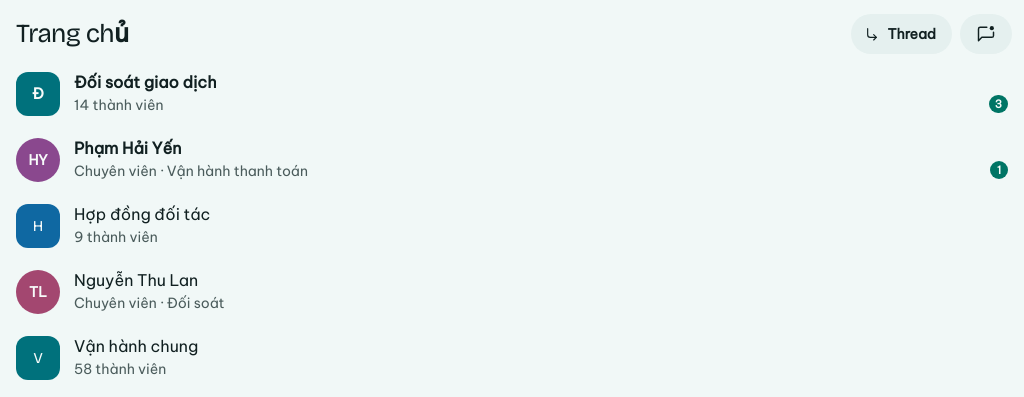
Scenario: the unread-only pill › still works when the device refuses to remember
Check: the number of list items is 5, box [0,60,1023,126]; [0,126,1023,192]; [16,204,210,248]; [16,270,224,314]; [16,336,198,380]
Click the button named "Chỉ hiện chưa đọc". click: click(986, 34)
box: [960,14,1012,54]
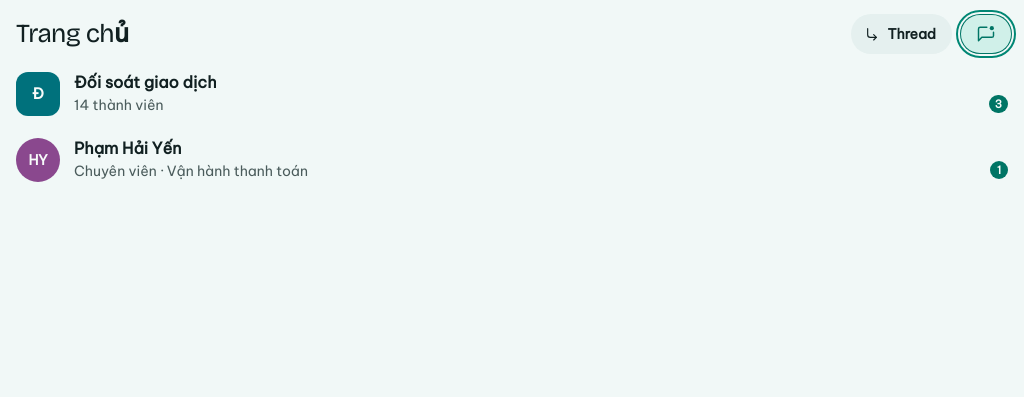
Check: the number of list items is 2, box [0,60,1023,126]; [0,126,1023,192]
